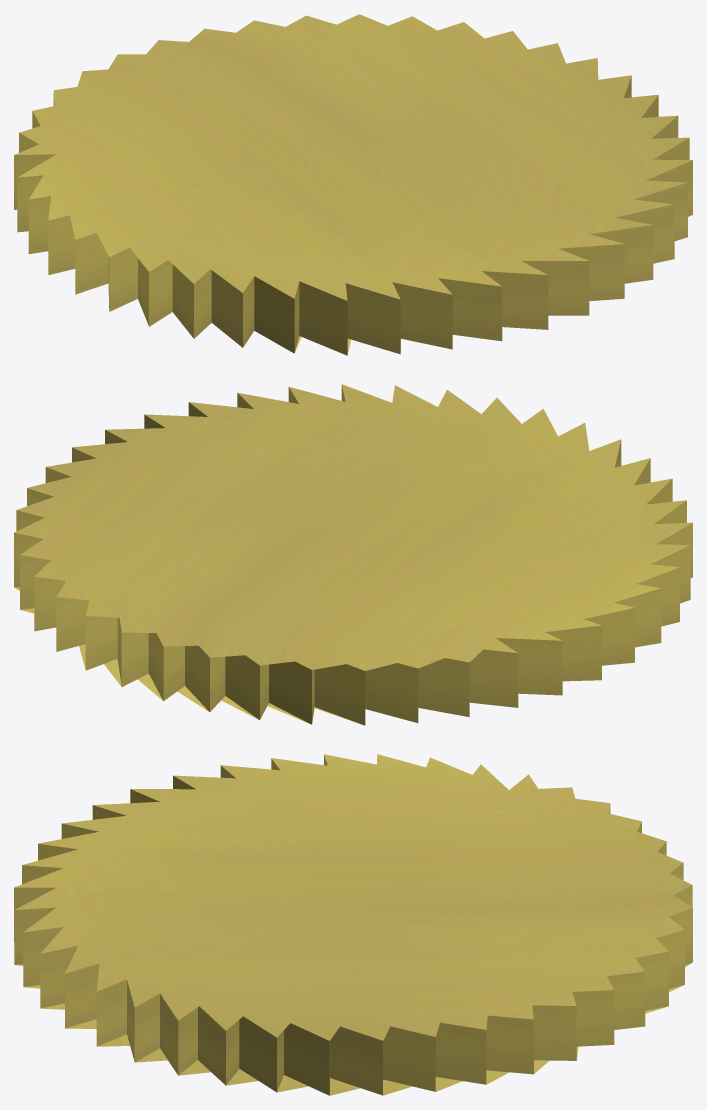
The model's file is ClockAngleFacet040.fbx.
3 renders of one model, top to bottom at view 1: azimuth 30°, elevation 25°; view 2: azimuth 150°, elevation 25°; view 3: azimuth 270°, elevation 25°, orthographic.
Parts seen in each view (by area): view 1: ClockAngleFacet040; view 2: ClockAngleFacet040; view 3: ClockAngleFacet040.
Part boxes in pixels (box(x1,y1,x2,y2)): ClockAngleFacet040: box(14, 14, 692, 355); ClockAngleFacet040: box(14, 384, 692, 725); ClockAngleFacet040: box(14, 754, 692, 1095).
Bounding box in the file's own units: 221 × 19.69 × 221.
